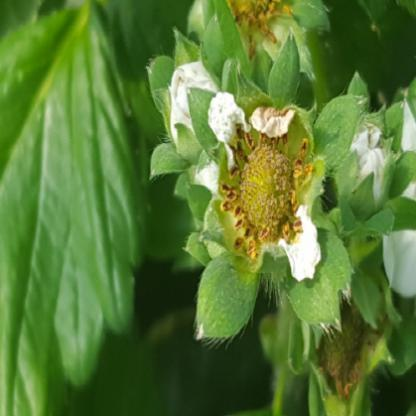Strawberry_Blossom_Blight: (214, 108, 319, 262)
